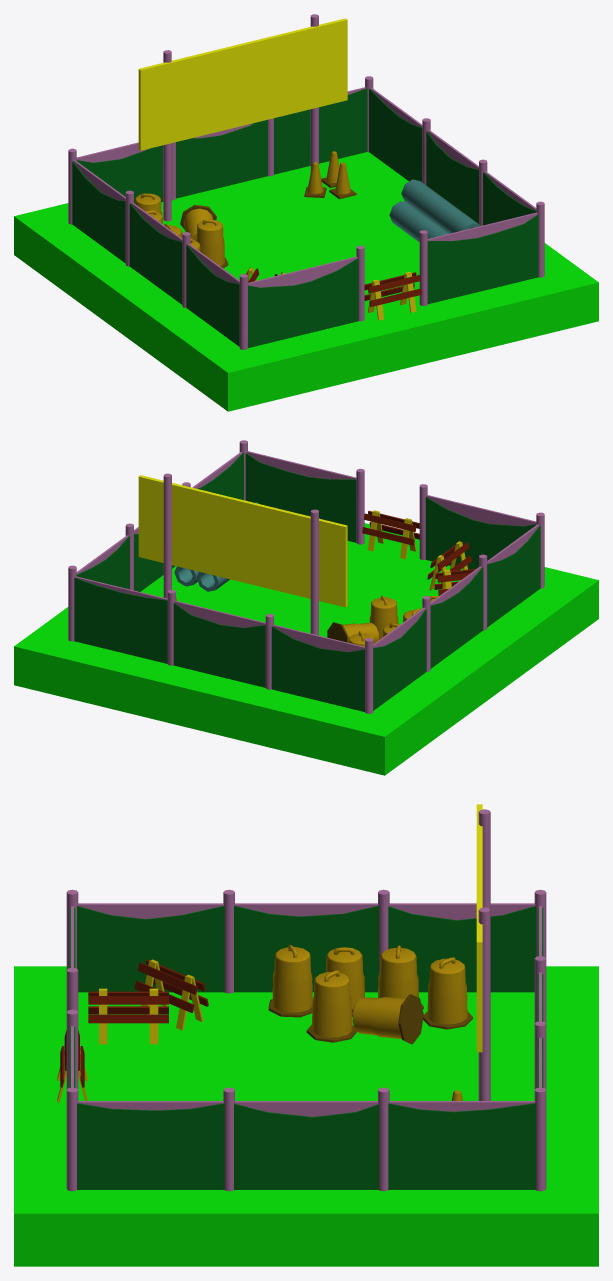
File: EmptyPlotConcept01_SM.fbx
3 views of the same model, one above another, from view 1: azimuth 30°, elevation 25°; view 2: azimuth 150°, elevation 25°; view 3: azimuth 270°, elevation 25° (orthographic). The views are drawn at different scales.
Parts seen in each view (by area): view 1: group22; view 2: group22; view 3: group22.
Boxes of the visible parts, left/top/right/bottom form: group22: left=14, top=14, right=598, bottom=411; group22: left=14, top=440, right=598, bottom=775; group22: left=14, top=804, right=598, bottom=1266.
Size of the model in its own units: 100 by 53.21 by 100.
